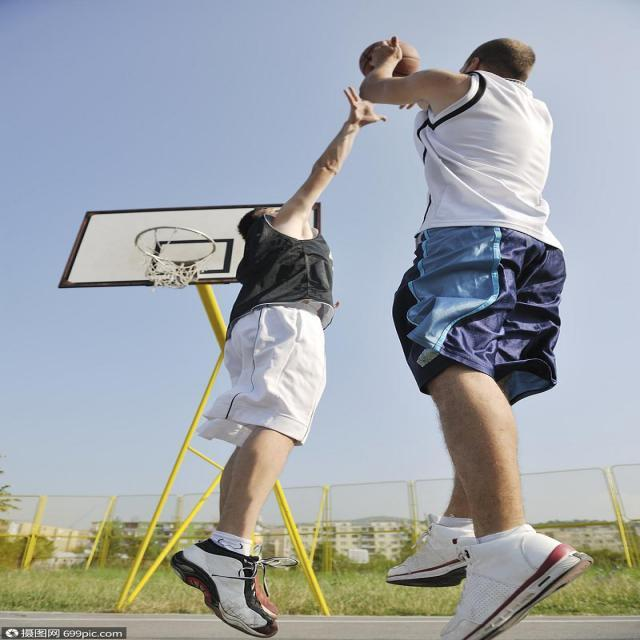rim: (360, 38, 418, 80)
